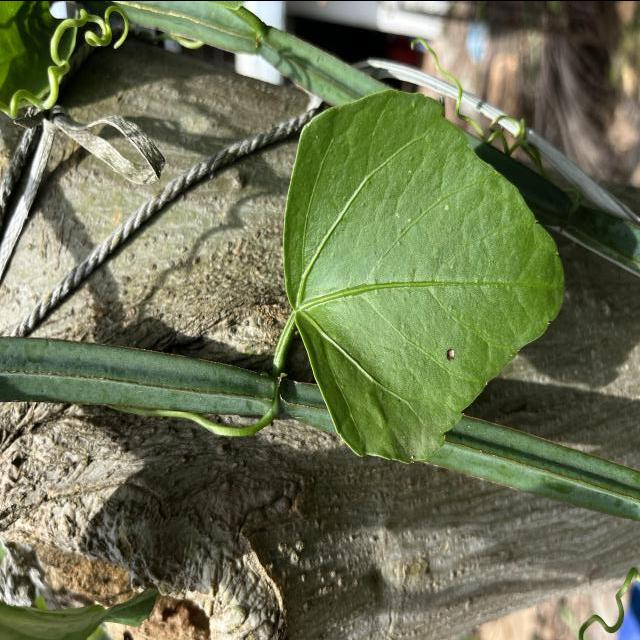Cissus quadrangularis: (280, 86, 572, 467)
